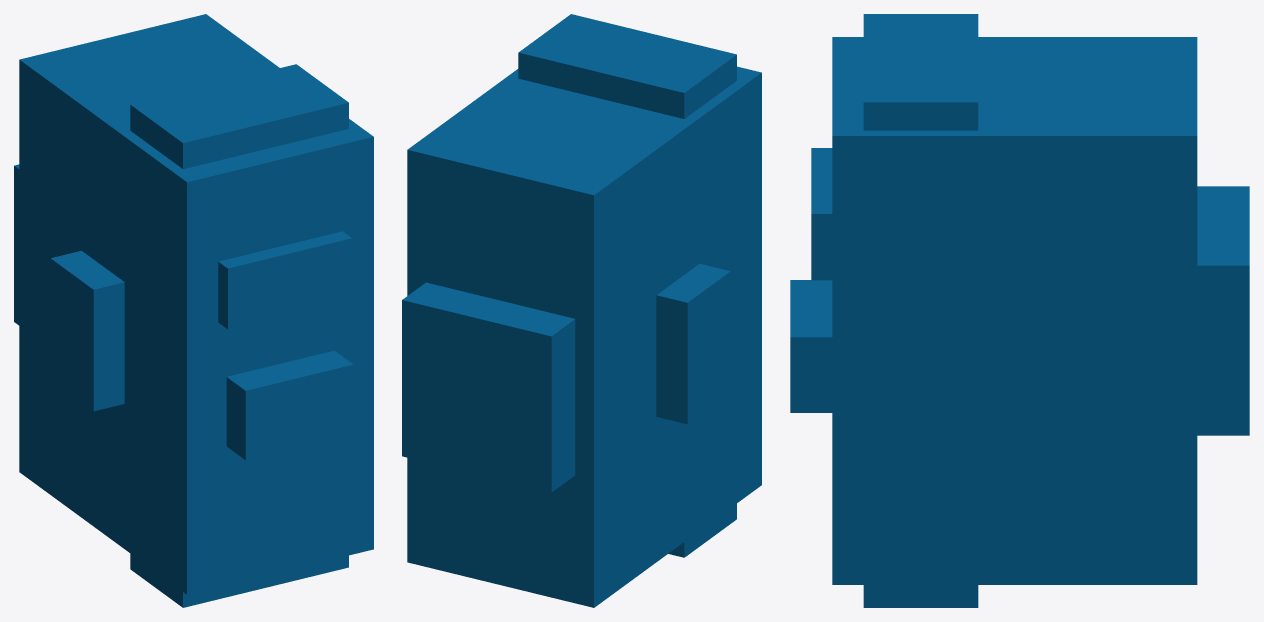
File: PLC-EXP-RS485.glb
3 renders of one model, left to right at view 1: azimuth 30°, elevation 25°; view 2: azimuth 150°, elevation 25°; view 3: azimuth 270°, elevation 25°, orthographic. The views are drawn at different scales.
Visible parts, largest first — view 1: PLC-EXP-RS485; view 2: PLC-EXP-RS485; view 3: PLC-EXP-RS485.
Part boxes in pixels (left/top/right/bottom): PLC-EXP-RS485: left=14, top=14, right=373, bottom=607; PLC-EXP-RS485: left=402, top=14, right=761, bottom=607; PLC-EXP-RS485: left=790, top=14, right=1249, bottom=607.
Bounding box in the file's own units: 0.0525 × 0.107 × 0.088.
